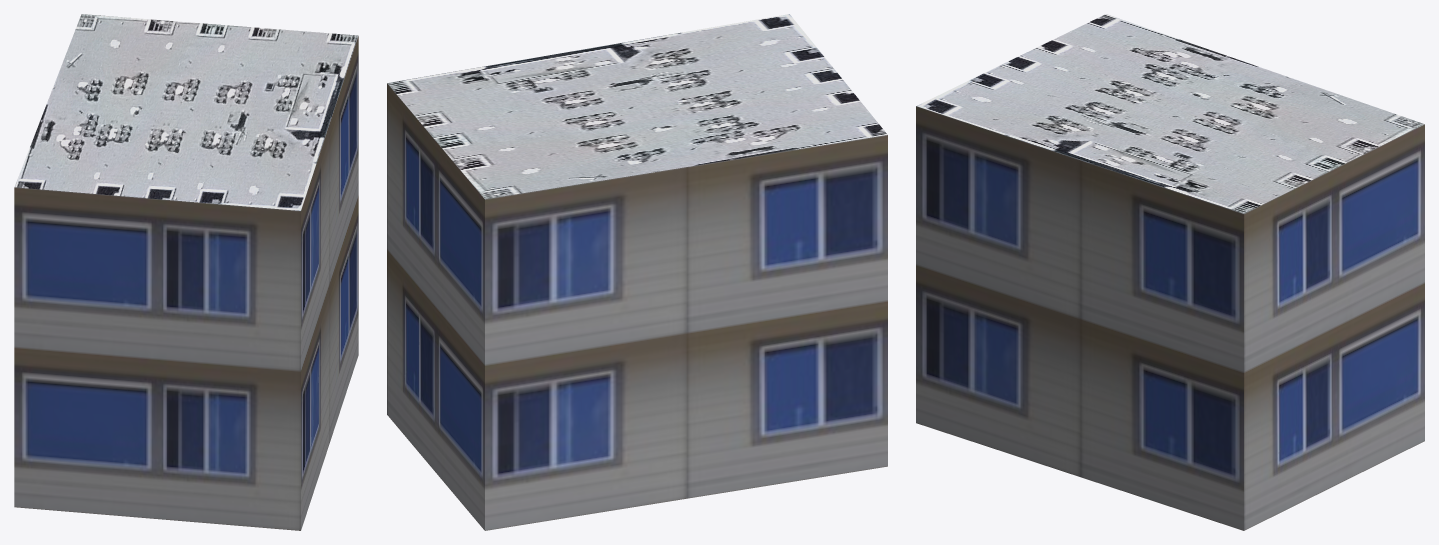
Rendered from ResTex__927.fbx.
3 renders of one model, left to right at view 1: azimuth 30°, elevation 25°; view 2: azimuth 150°, elevation 25°; view 3: azimuth 270°, elevation 25°, orthographic. The views are drawn at different scales.
Visible parts, largest first — view 1: CityEngineMaterial_23_m, CityEngineMaterial_4_m; view 2: CityEngineMaterial_23_m, CityEngineMaterial_4_m; view 3: CityEngineMaterial_23_m, CityEngineMaterial_4_m.
Boxes of the visible parts, left/top/right/bottom form: CityEngineMaterial_23_m: left=14, top=36, right=358, bottom=530; CityEngineMaterial_4_m: left=14, top=14, right=358, bottom=210; CityEngineMaterial_23_m: left=387, top=83, right=887, bottom=530; CityEngineMaterial_4_m: left=387, top=14, right=887, bottom=199; CityEngineMaterial_23_m: left=916, top=106, right=1424, bottom=530; CityEngineMaterial_4_m: left=916, top=14, right=1424, bottom=213.
Size of the model in its own units: 8.12 by 6 by 8.73.
2 materials, 2 textured.
